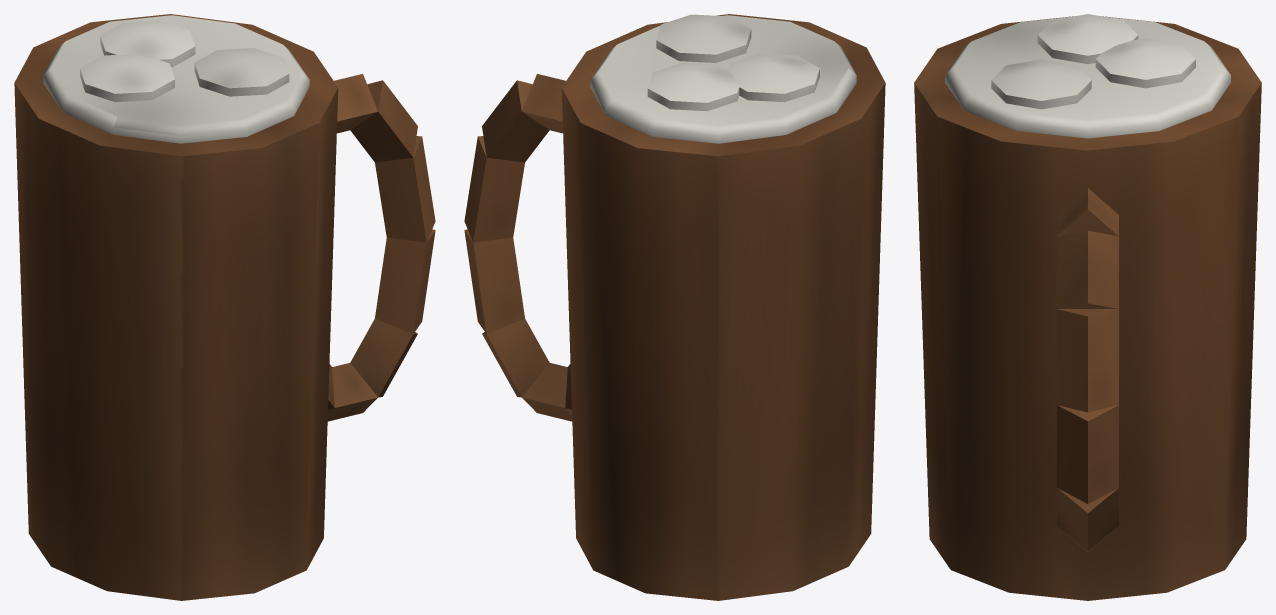
File: Hold_Mug.fbx
The picture shows the model from 3 angles, left to right: view 1: azimuth 30°, elevation 25°; view 2: azimuth 150°, elevation 25°; view 3: azimuth 270°, elevation 25°; orthographic projection.
Parts seen in each view (by area): view 1: Hold_Mug; view 2: Hold_Mug; view 3: Hold_Mug.
Part boxes in pixels (left/top/right/bottom): Hold_Mug: left=14, top=14, right=435, bottom=600; Hold_Mug: left=464, top=14, right=885, bottom=600; Hold_Mug: left=914, top=14, right=1261, bottom=600.
Size of the model in its own units: 0.12 by 0.14 by 0.09.
1 material, 1 textured.
